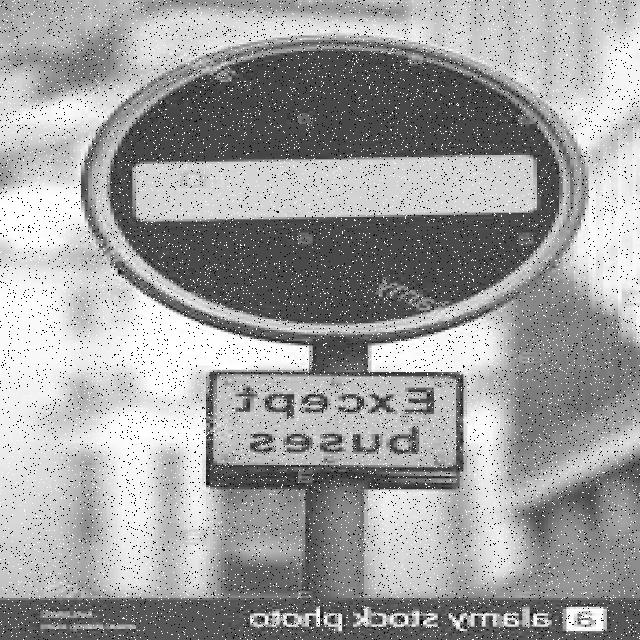no entry: (110, 49, 563, 323)
